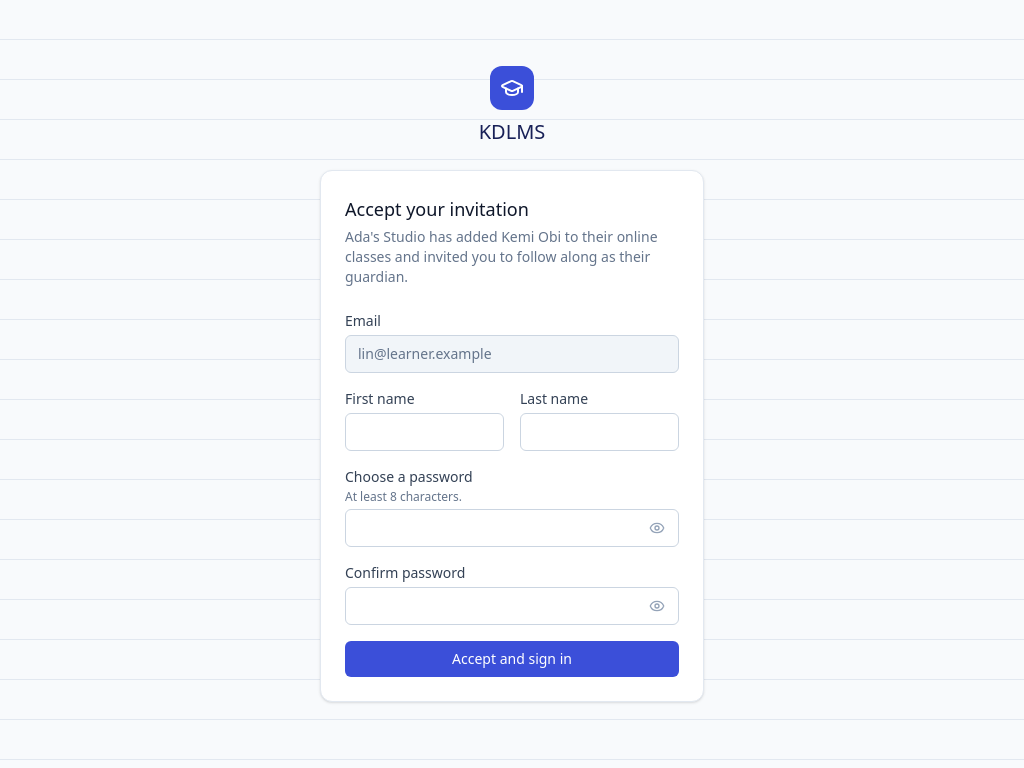
Test: InviteAcceptPage › asks a new guardian for their name and refuses mismatched passwords
Check: the text "added Kemi Obi to their online classes" is shown, box [345,227,658,286]
Type "Pat" into the field labelled "First name" at (424, 432), box [345,413,504,451]
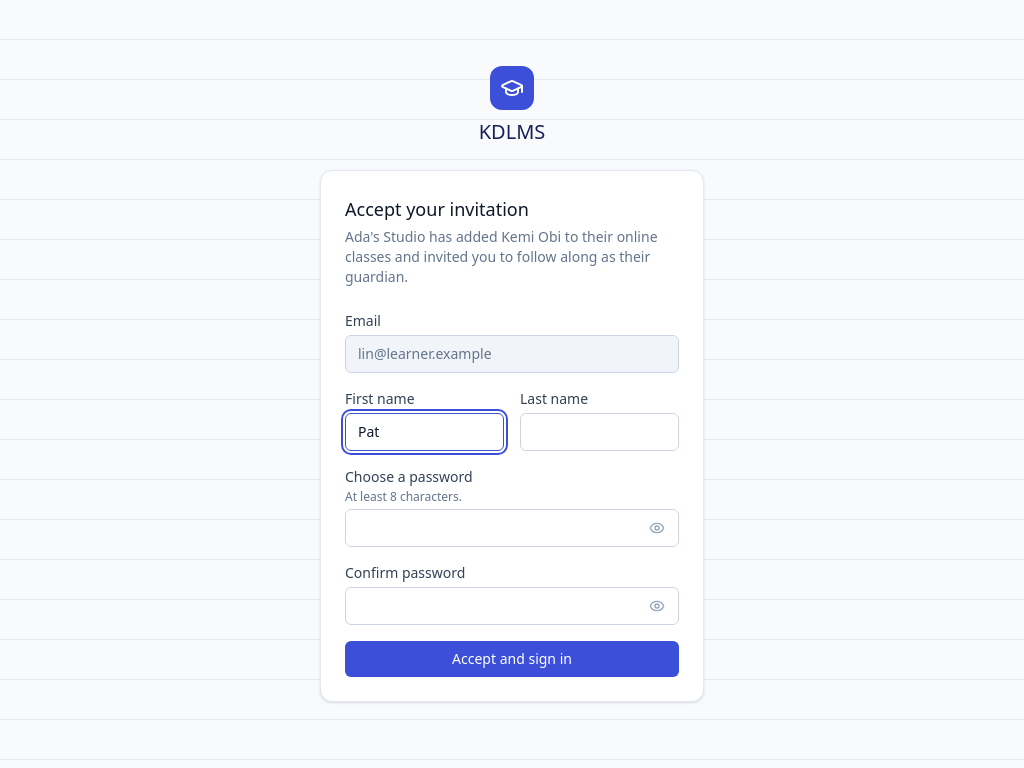
Type "Parent" into the field labelled "Last name" at (600, 432), box [520,413,679,451]
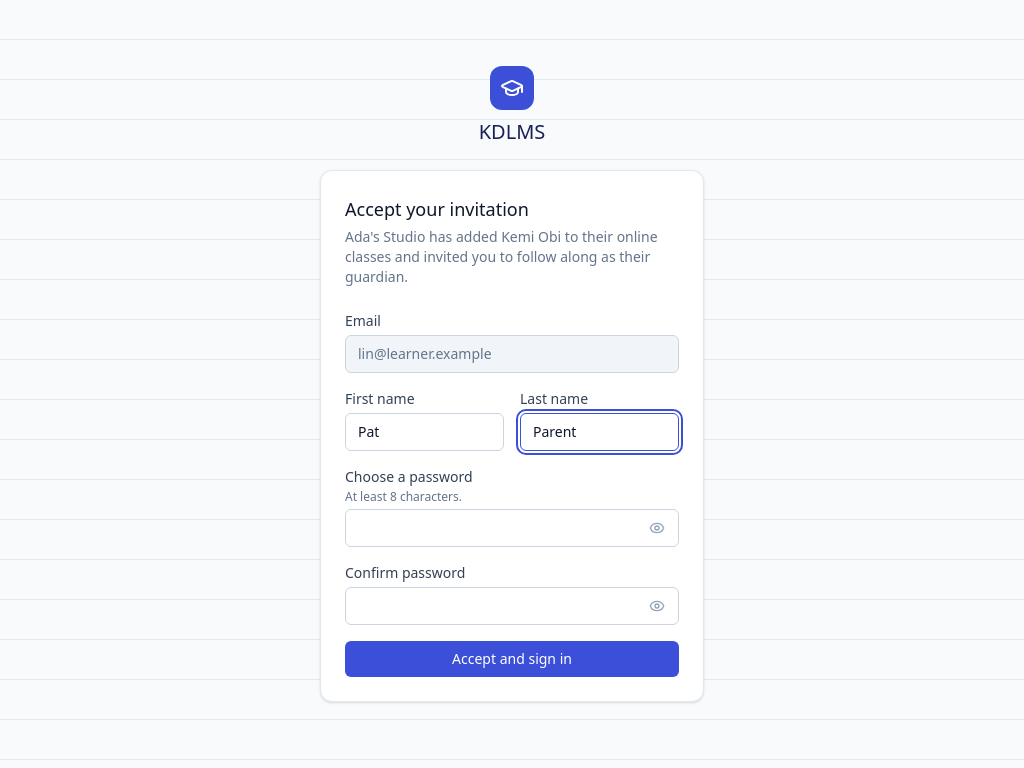
Type "Password-one" into the password field labelled "Choose a password" at (512, 528), box [345,509,679,547]
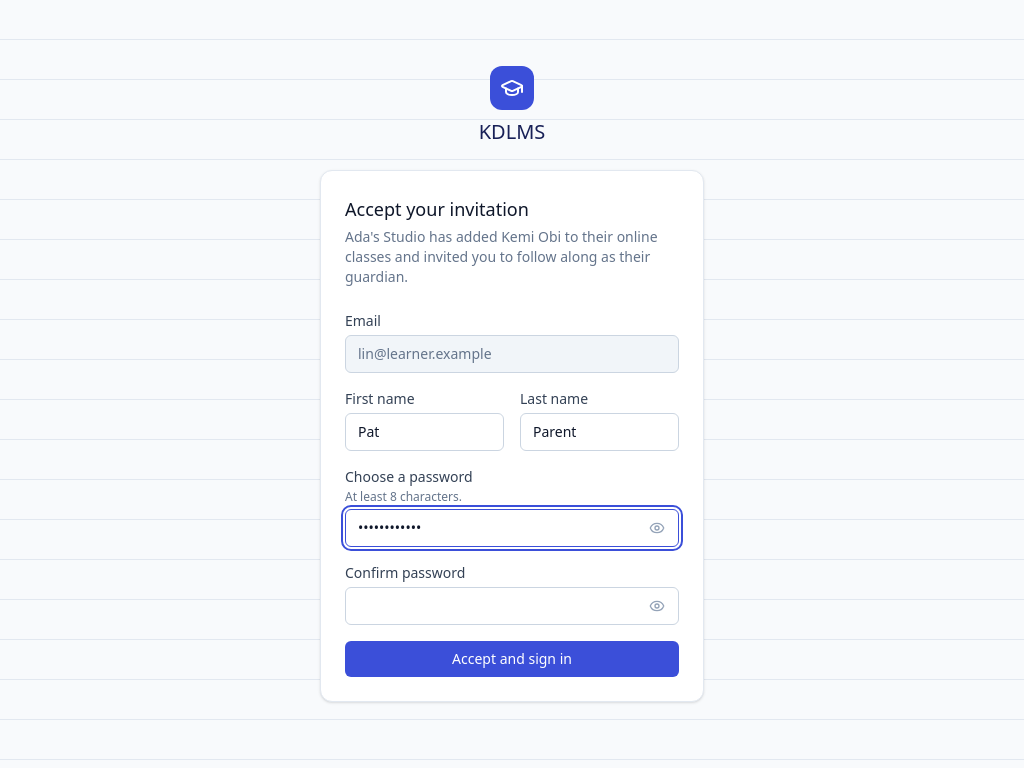
Type "Password-two" into the password field labelled "Confirm password" at (512, 606), box [345,587,679,625]
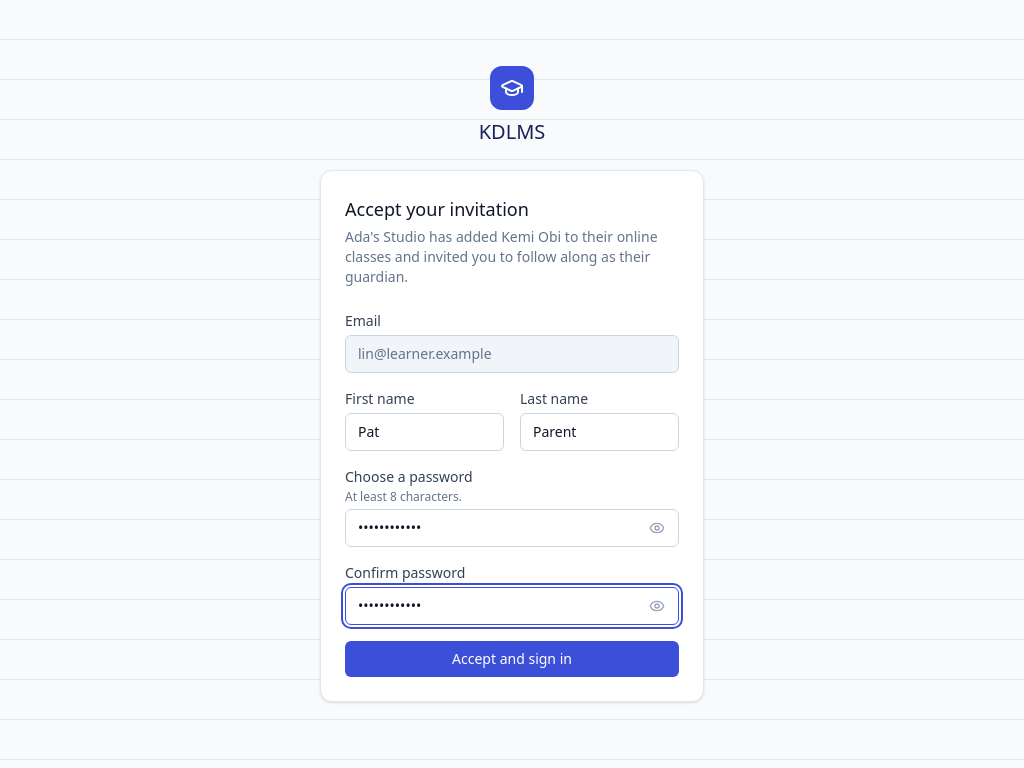
Click the button "Accept and sign in" at (512, 659), box [345,641,679,677]
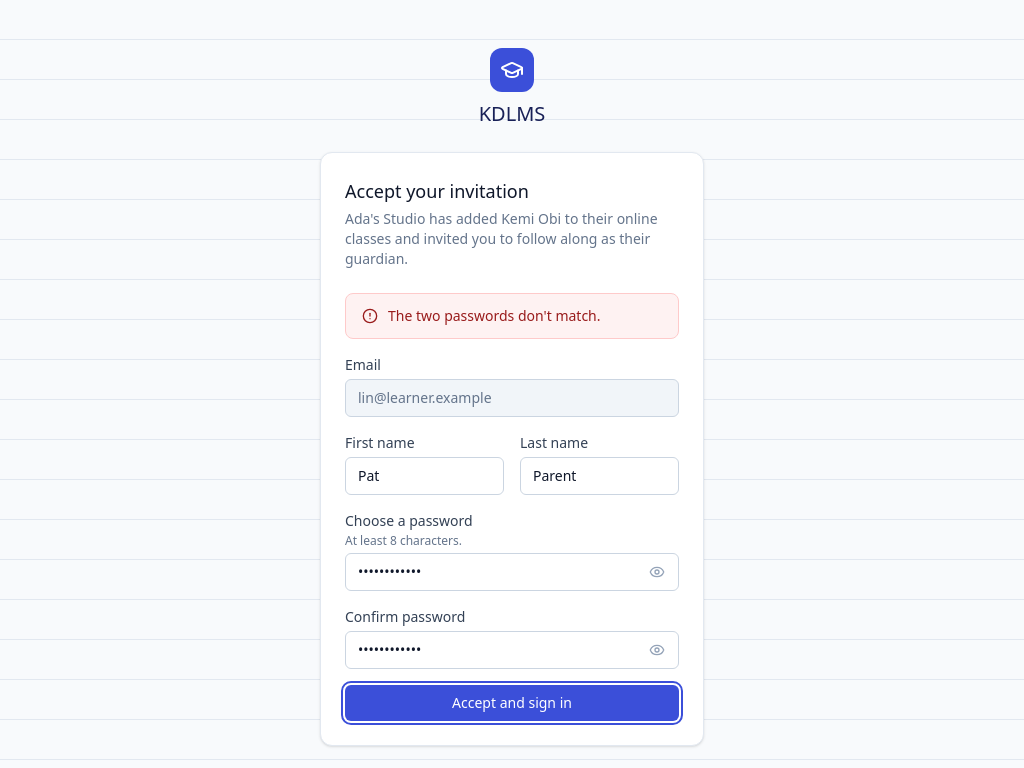
Check: the text "The two passwords don't match." is shown, box [388,306,600,326]
